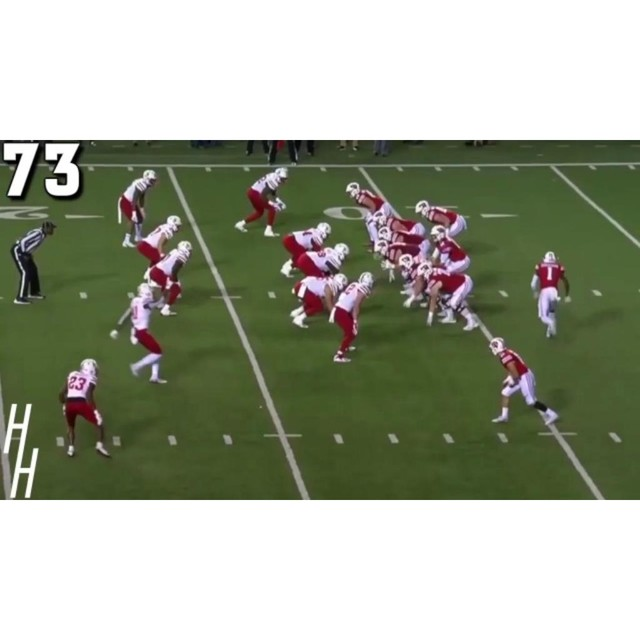american-football-player: (489, 338, 557, 426), (110, 284, 169, 383), (59, 360, 112, 457), (329, 272, 377, 364), (234, 165, 289, 238), (419, 265, 479, 331), (145, 241, 194, 317), (288, 273, 348, 330), (531, 252, 569, 341), (117, 170, 159, 248), (280, 223, 332, 278), (376, 237, 429, 286), (290, 244, 350, 286), (135, 216, 182, 264), (429, 225, 472, 274), (415, 200, 468, 238), (398, 257, 433, 309)
referee: (9, 219, 58, 307)
